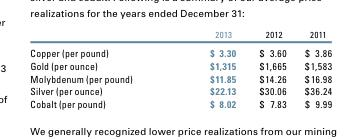table: (29, 28, 331, 109)
table column: (29, 28, 170, 109), (170, 28, 246, 109), (246, 28, 294, 109), (294, 28, 331, 109)
table column header: (29, 28, 331, 43)
table row: (29, 28, 331, 43), (29, 43, 331, 58), (29, 58, 331, 71), (29, 71, 331, 84), (29, 96, 331, 109), (29, 84, 331, 96)
